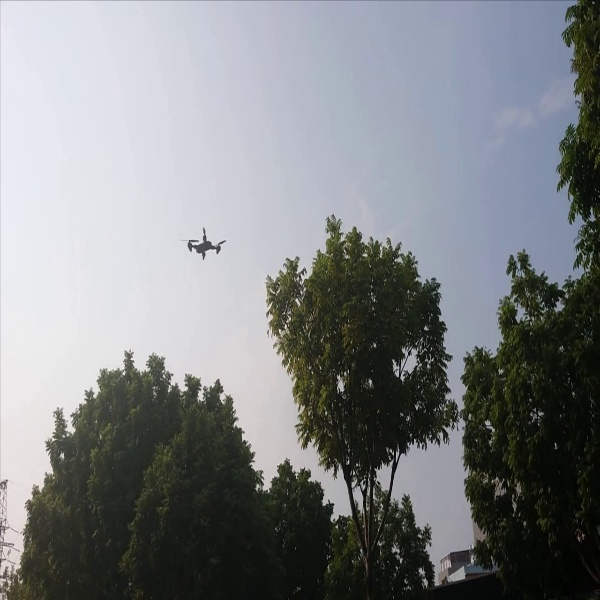drone: (182, 225, 230, 267)
